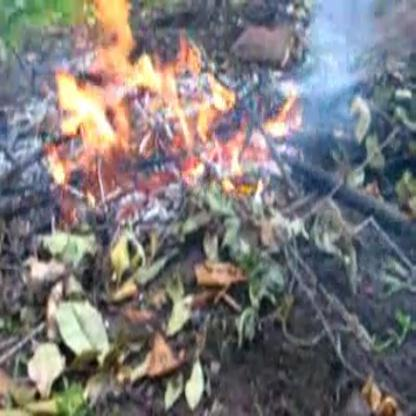Fire: (52, 0, 298, 194)
